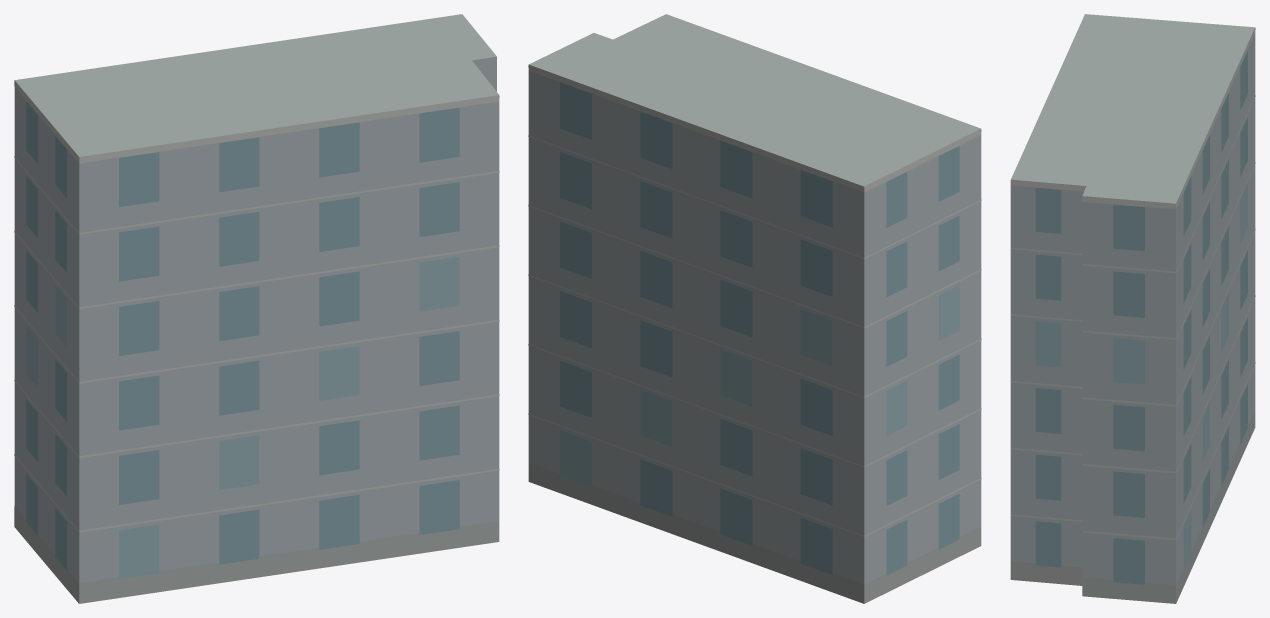
File: survey-upis-32788209.glb
The picture shows the model from 3 angles, left to right: view 1: azimuth 30°, elevation 25°; view 2: azimuth 150°, elevation 25°; view 3: azimuth 270°, elevation 25°; orthographic projection. The views are drawn at different scales.
Parts seen in each view (by area): view 1: survey-upis-32788209.tmp; view 2: survey-upis-32788209.tmp; view 3: survey-upis-32788209.tmp.
Boxes of the visible parts, bbox=[...] form: survey-upis-32788209.tmp: bbox=[14, 14, 499, 603]; survey-upis-32788209.tmp: bbox=[528, 14, 981, 603]; survey-upis-32788209.tmp: bbox=[1010, 14, 1255, 603].
Bounding box in the file's own units: 17 × 16.7 × 9.27.
